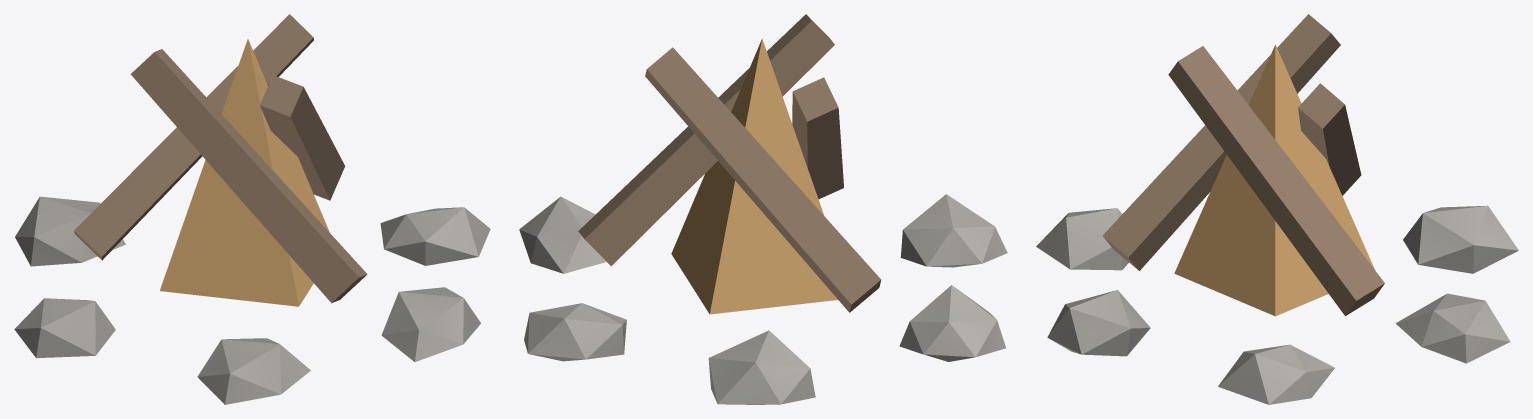
3 renders of one model, left to right at view 1: azimuth 30°, elevation 25°; view 2: azimuth 150°, elevation 25°; view 3: azimuth 270°, elevation 25°, orthographic. The views are drawn at different scales.
Visible parts, largest first — view 1: structure.campfire; view 2: structure.campfire; view 3: structure.campfire.
Part boxes in pixels (box(x1,y1,x2,y2)): structure.campfire: box(14, 14, 490, 404); structure.campfire: box(519, 14, 1007, 404); structure.campfire: box(1036, 14, 1518, 404).
Bounding box in the file's own units: 1.58 × 0.83 × 1.43.
